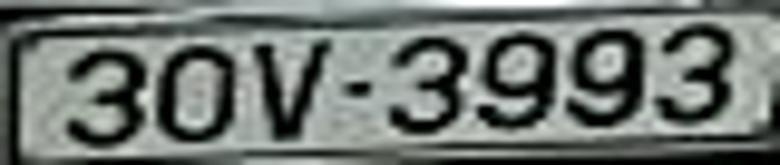-: (345, 80, 372, 97)
0: (161, 45, 233, 142)
3: (66, 48, 142, 147), (391, 39, 464, 134), (657, 25, 729, 120)
9: (571, 28, 642, 126), (481, 33, 550, 128)
V: (253, 42, 330, 142)
